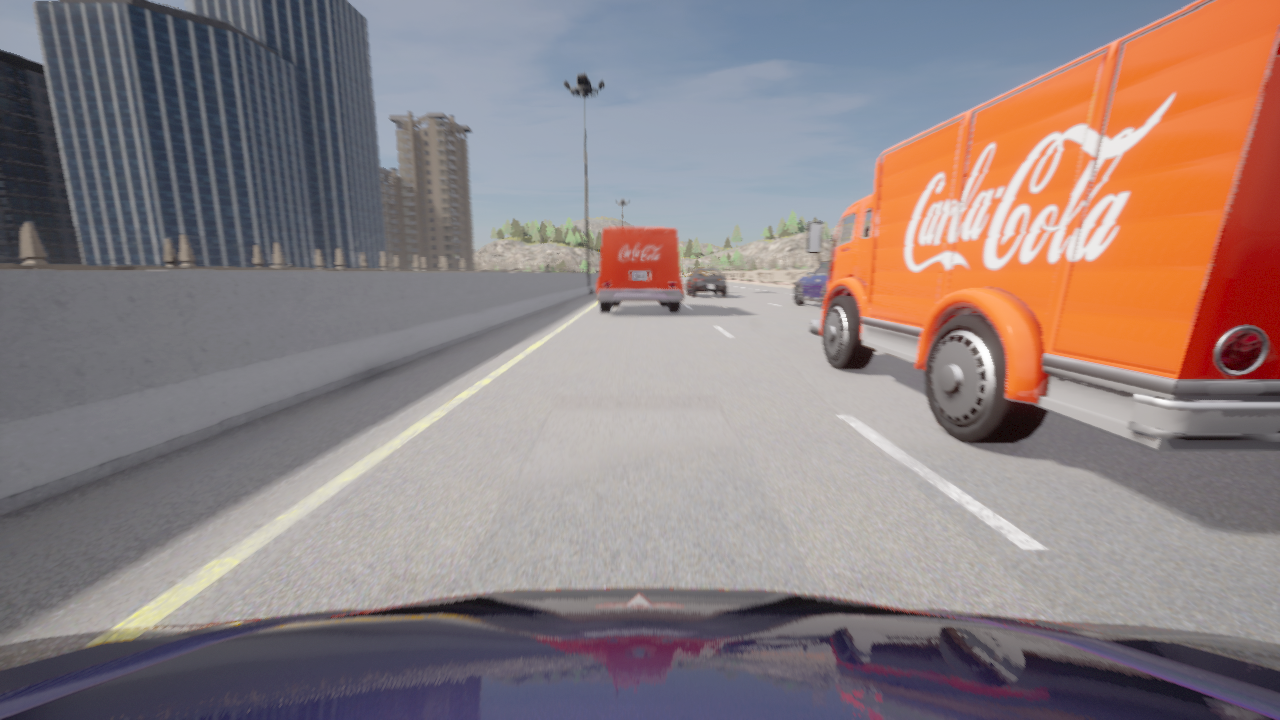cyclist: (806, 0, 1279, 449), (0, 588, 1279, 719), (597, 228, 683, 312), (794, 262, 828, 304), (686, 268, 726, 296)
